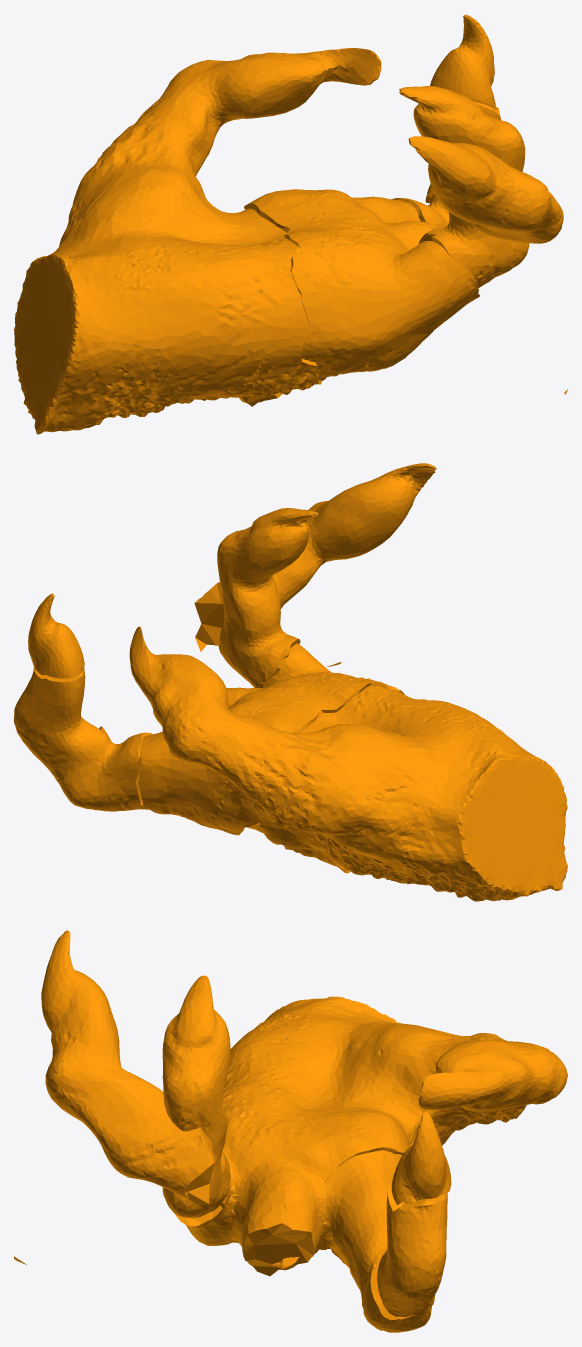
File: hand.glb
3 renders of one model, top to bottom at view 1: azimuth 30°, elevation 25°; view 2: azimuth 150°, elevation 25°; view 3: azimuth 270°, elevation 25°, orthographic. The views are drawn at different scales.
Parts seen in each view (by area): view 1: Object_piece_10, Object_piece_10.001, Object_piece_10.002, Object_piece_10.004, Object_piece_10.006, Object_piece_10.005, Object_piece_10.003; view 2: Object_piece_10, Object_piece_10.004, Object_piece_10.002, Object_piece_10.001, Object_piece_10.008, Object_piece_10.005, Object_piece_10.003, Object_piece_10.006, Object_piece_10.007; view 3: Object_piece_10, Object_piece_10.001, Object_piece_10.002, Object_piece_10.004, Object_piece_10.008, Object_piece_10.005, Object_piece_10.006, Object_piece_10.003.
Boxes of the visible parts, x1,y1,x2,y2 form: Object_piece_10: (14,48,381,434); Object_piece_10.001: (244,189,479,380); Object_piece_10.002: (408,136,563,243); Object_piece_10.004: (399,86,529,287); Object_piece_10.006: (430,14,495,108); Object_piece_10.005: (352,196,420,223); Object_piece_10.003: (392,194,449,228); Object_piece_10: (129,626,567,901); Object_piece_10.004: (217,508,318,687); Object_piece_10.002: (194,463,436,651); Object_piece_10.001: (226,643,404,829); Object_piece_10.008: (14,667,106,781); Object_piece_10.005: (138,731,244,835); Object_piece_10.003: (58,726,151,811); Object_piece_10.006: (28,593,84,678); Object_piece_10.007: (247,822,349,873); Object_piece_10: (224,996,567,1146); Object_piece_10.001: (162,1085,409,1276); Object_piece_10.002: (41,930,214,1211); Object_piece_10.004: (162,975,230,1218); Object_piece_10.008: (377,1181,447,1316); Object_piece_10.005: (324,1150,402,1267); Object_piece_10.006: (391,1111,451,1204); Object_piece_10.003: (349,1225,431,1332).
Bounding box in the file's own units: 0.9078 × 0.5485 × 0.8174.
